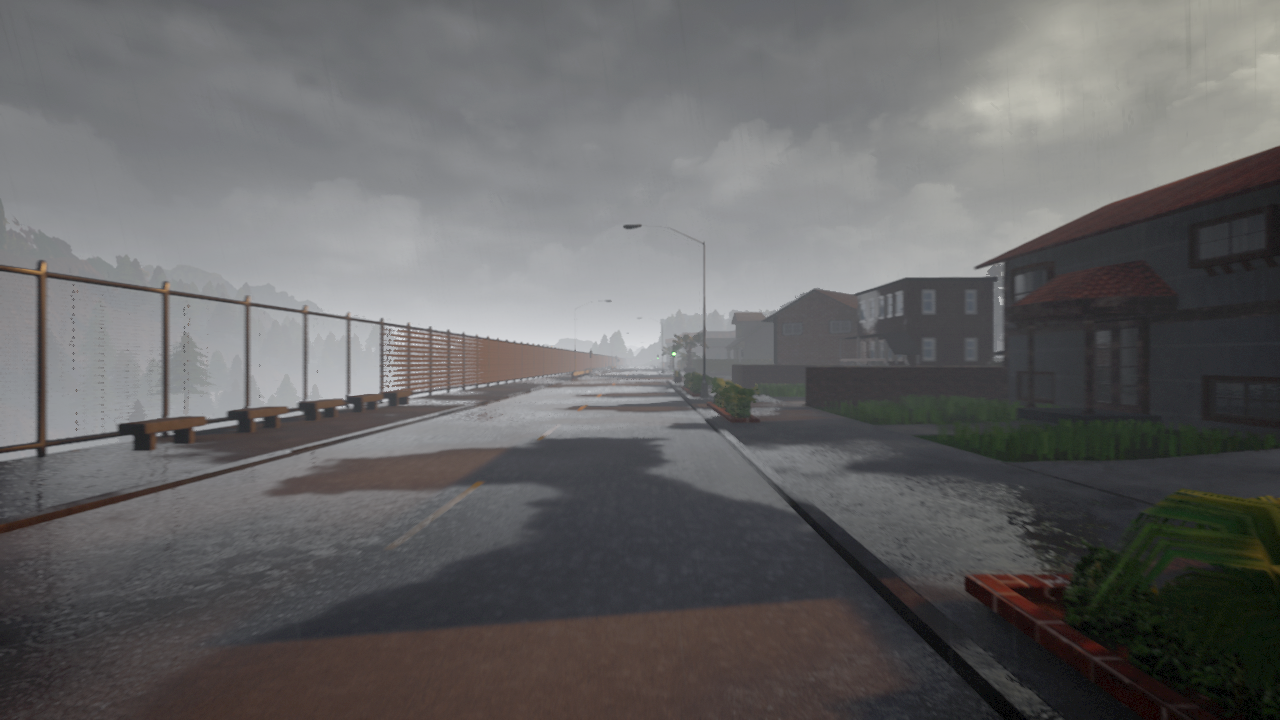green: (671, 345, 676, 357)
